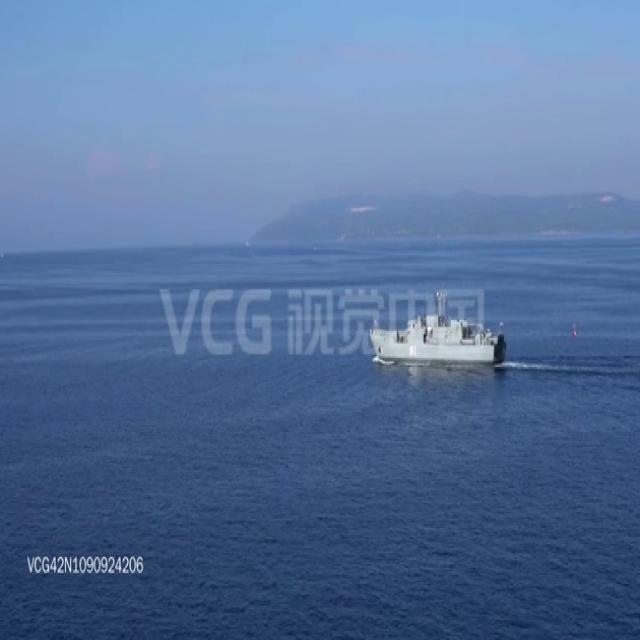navalvessels: (362, 285, 504, 366)
